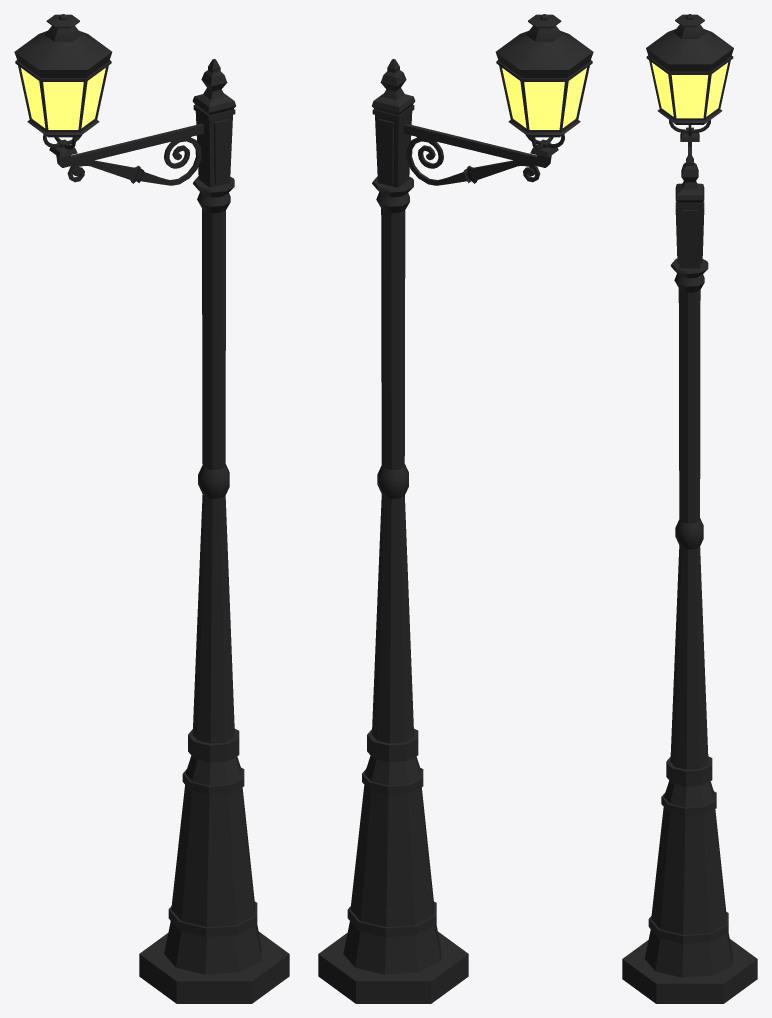
File: SingleLightPost.glb
The picture shows the model from 3 angles, left to right: view 1: azimuth 30°, elevation 25°; view 2: azimuth 150°, elevation 25°; view 3: azimuth 270°, elevation 25°; orthographic projection. The views are drawn at different scales.
Visible parts, largest first — view 1: classic_street_light; view 2: classic_street_light; view 3: classic_street_light.
Part boxes in pixels (<box>): classic_street_light: <box>14,14,289,1003</box>; classic_street_light: <box>318,14,593,1003</box>; classic_street_light: <box>622,14,757,1003</box>.
Size of the model in its own units: 0.9584 by 3.75 by 0.5113.
